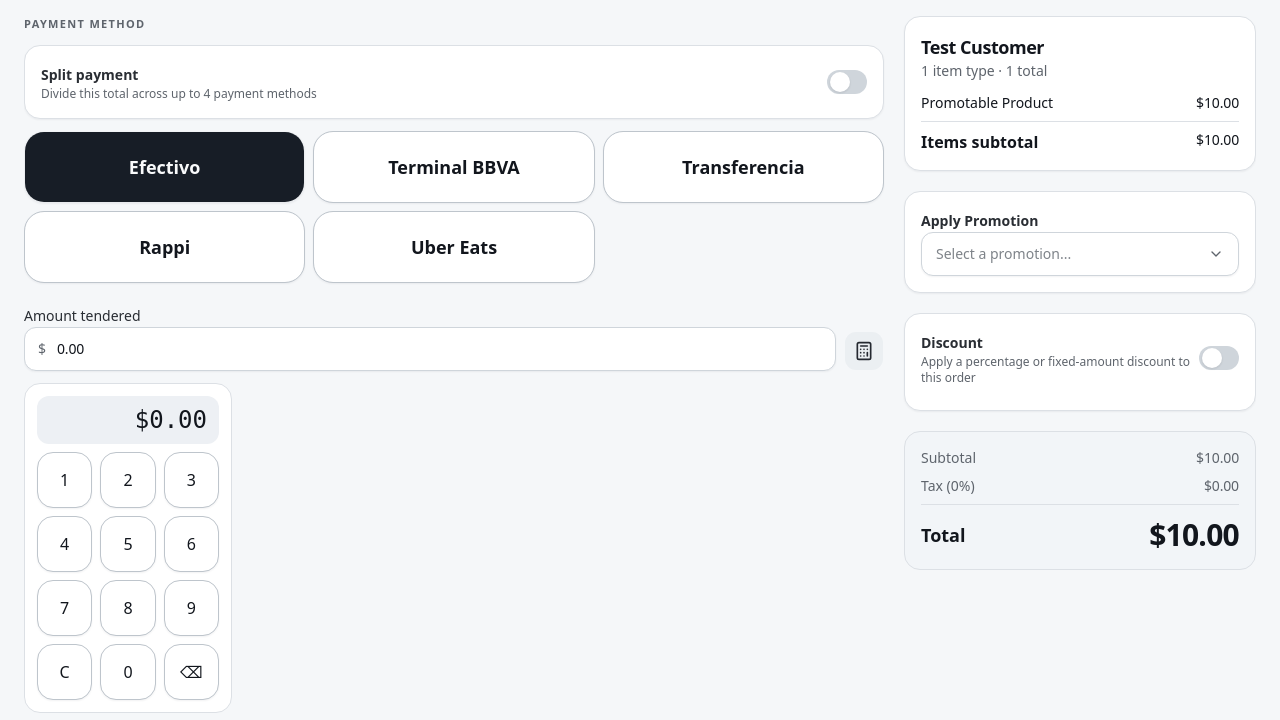
Test: PaymentForm — combo savings (Task 5) › a combo (kind="combo") promotion never appears in the "Apply Promotion" select — only kind="discount" ones do
expect the element with test id "apply-promotion-section" is shown: met, box [904,191,1256,293]
Click the dropdown with test id "apply-promotion-select" at (1004, 254), box [921,232,1239,276]
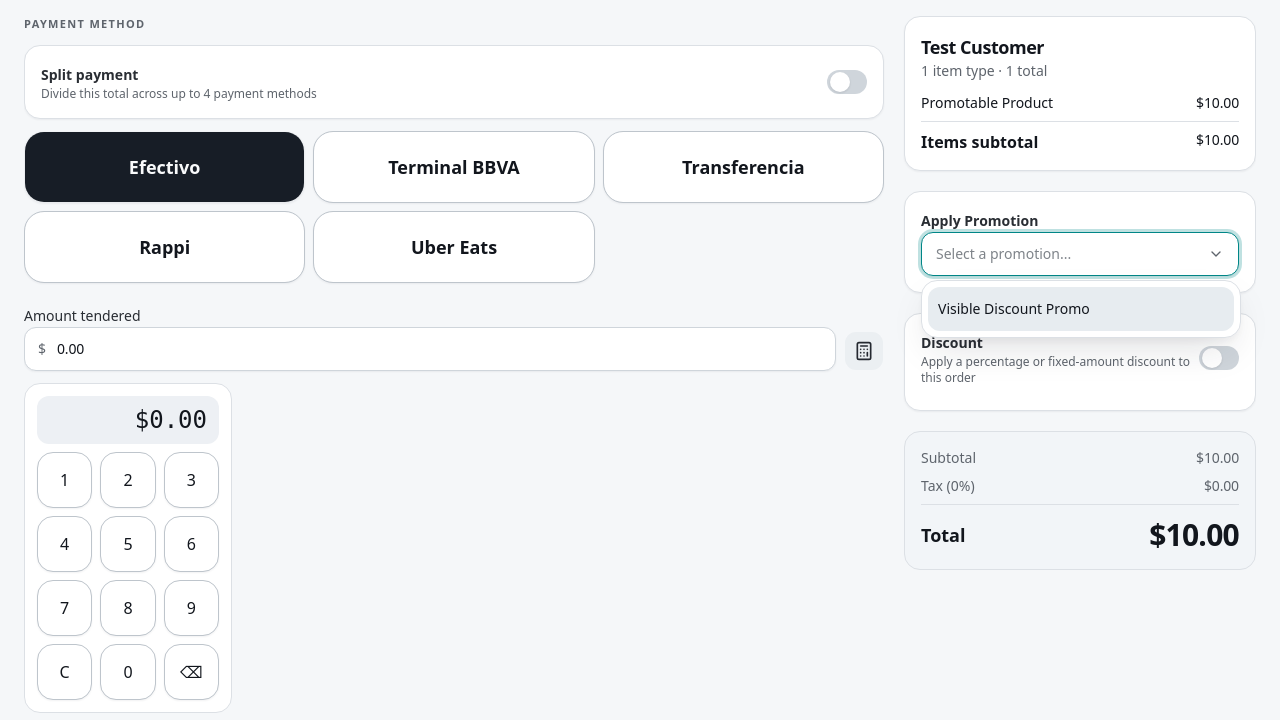
expect the text "Visible Discount Promo" is shown: met, box [938,299,1090,319]
